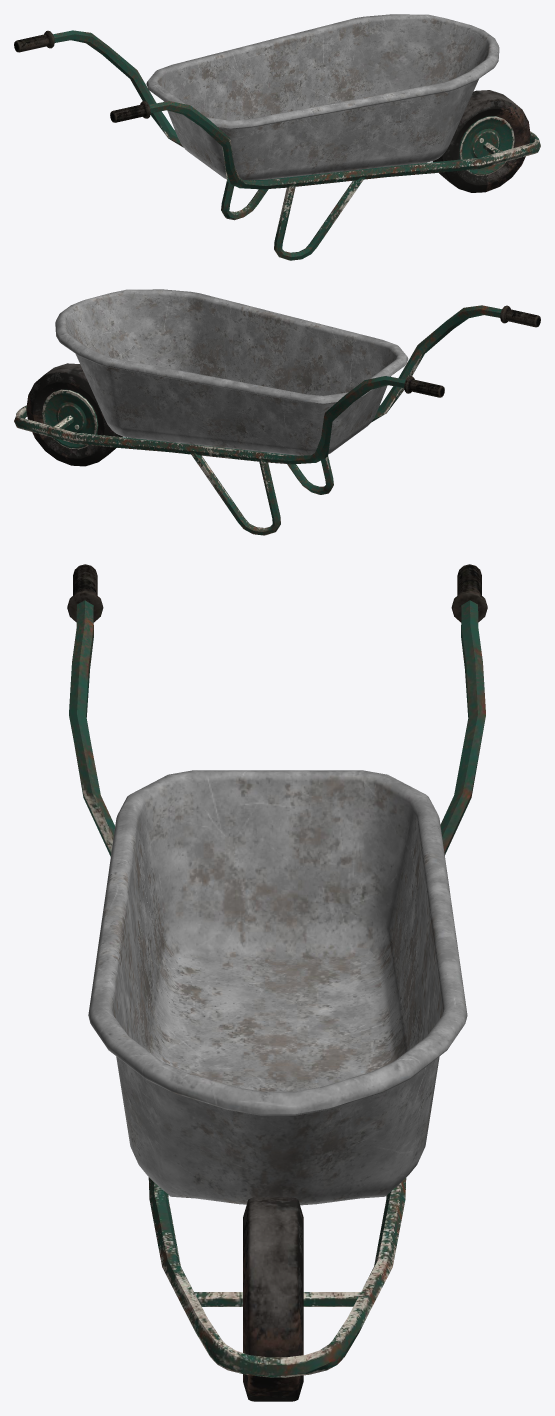
The model's file is Wheelbarrow_LP.glb.
3 views of the same model, one above another, from view 1: azimuth 30°, elevation 25°; view 2: azimuth 150°, elevation 25°; view 3: azimuth 270°, elevation 25° (orthographic). The views are drawn at different scales.
Parts seen in each view (by area): view 1: Wheelbarrow_LP; view 2: Wheelbarrow_LP; view 3: Wheelbarrow_LP.
Part boxes in pixels (x1,y1,x2,y2): Wheelbarrow_LP: (14, 14, 540, 260); Wheelbarrow_LP: (14, 289, 540, 535); Wheelbarrow_LP: (67, 564, 487, 1401).
Bounding box in the file's own units: 2.33 × 1.02 × 0.9045.
Materials: 1 (1 with a texture image).
